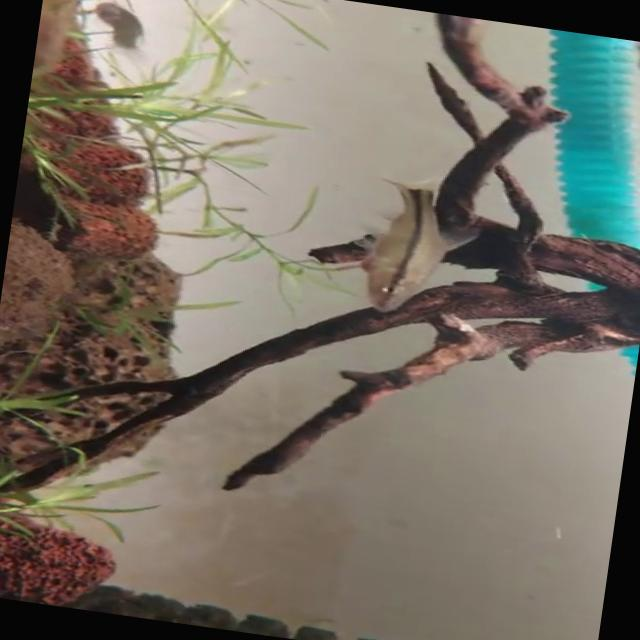Cakil Baligi: (344, 170, 484, 320)
